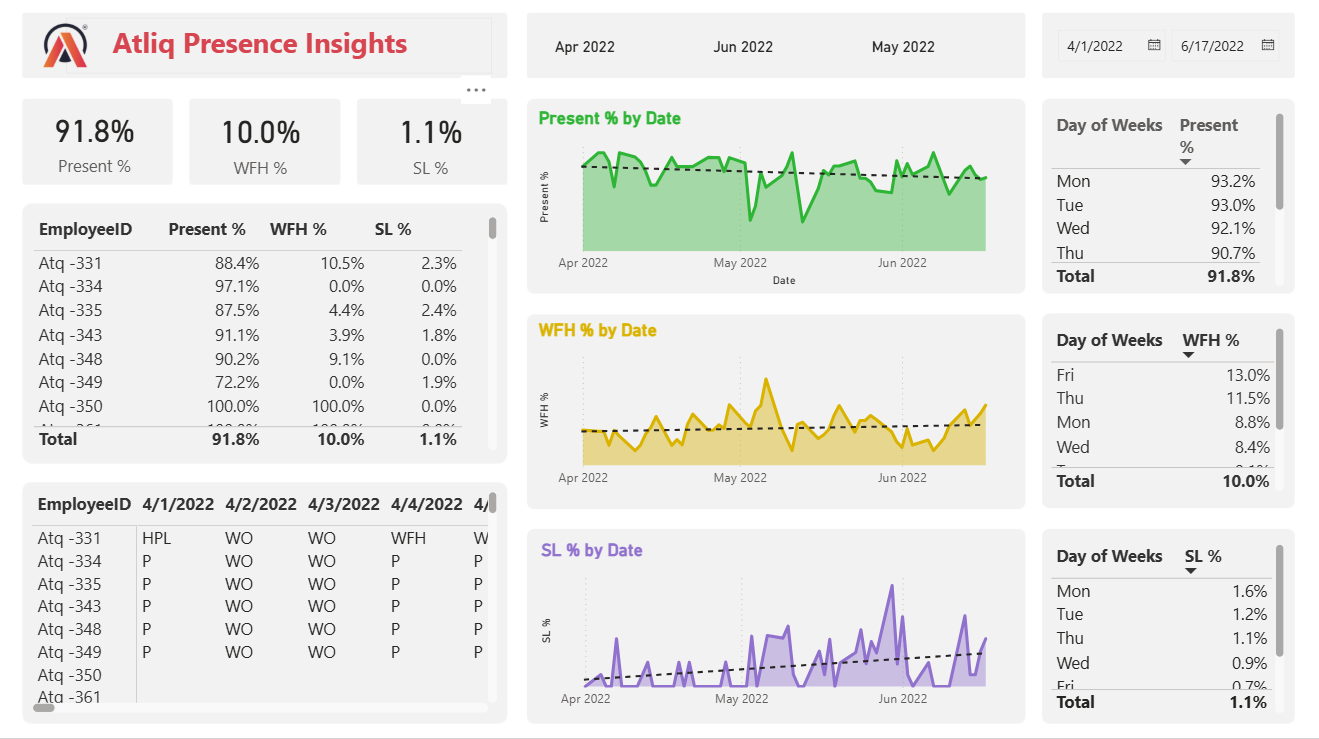

What the dashboard file says about the page in this screenshot:
{"tool":"powerbi","page":{"name":"Page 1","canvas":[1280,720],"ordinal":0},"visuals":[{"type":"card","fields":{"Values":["_measures.Present %"]},"box":[32.9,98.8,124.9,83.7],"z":0},{"type":"advancedSlicerVisual","fields":{"Values":["Final Data.Month"]},"box":[521.2,24.1,463.3,49.5],"z":1000},{"type":"card","fields":{"Values":["_measures.WFH %"]},"box":[190.7,100.2,129,83.7],"z":2000},{"type":"card","fields":{"Values":["_measures.SL %"]},"box":[347.2,100.2,144.1,83.7],"z":3000},{"type":"tableEx","fields":{"Values":["Final Data.Employee Code","_measures.Present %","_measures.WFH %","_measures.SL %"]},"box":[30.2,209.9,458.4,235.3],"z":4000},{"type":"pivotTable","fields":{"Values":["Min(Final Data.Value)"],"Columns":["Final Data.Date"],"Rows":["Final Data.Employee Code"]},"box":[30.2,475.3,458.4,223.2],"z":5000},{"type":"tableEx","fields":{"Values":["Final Data.Day of Weeks","_measures.Present %"]},"box":[1012.7,109.8,236,177],"z":6000},{"type":"tableEx","fields":{"Values":["Final Data.Day of Weeks","_measures.WFH %"]},"box":[1012.7,317,236,167.4],"z":7000},{"type":"tableEx","fields":{"Values":["Final Data.Day of Weeks","_measures.SL %"]},"box":[1012.7,525.6,236,172.9],"z":8000},{"type":"textbox","box":[67.6,22.9,411.4,54.3],"z":9000},{"type":"areaChart","fields":{"Category":["Final Data.Date"],"Y":["_measures.Present %"]},"box":[518.8,109.8,465.7,177.3],"z":10000},{"type":"areaChart","fields":{"Category":["Final Data.Date"],"Y":["_measures.WFH %"]},"box":[518.8,313.7,465.7,171.3],"z":11000},{"type":"areaChart","fields":{"Category":["Final Data.Date"],"Y":["_measures.SL %"]},"box":[521.2,526,463.3,172.5],"z":12000},{"type":"slicer","fields":{"Values":["Final Data.Date"]},"box":[1012.2,24.1,236.5,50.7],"z":13000},{"type":"image","box":[32.6,22.9,70,53.1],"z":14000}]}

Visuals, with their boxes in screenshot pixels (x1, y1, x2, y2), scaled from the page's 1280x720 canvas onto the 1319x739 screenshot:
card - _measures.Present %: (x1=34, y1=101, x2=163, y2=187)
advancedSlicerVisual - Final Data.Month: (x1=537, y1=25, x2=1014, y2=76)
card - _measures.WFH %: (x1=197, y1=103, x2=329, y2=189)
card - _measures.SL %: (x1=358, y1=103, x2=506, y2=189)
tableEx - Final Data.Employee Code x _measures.Present %: (x1=31, y1=215, x2=503, y2=457)
pivotTable - Min(Final Data.Value) x Final Data.Date: (x1=31, y1=488, x2=503, y2=717)
tableEx - Final Data.Day of Weeks x _measures.Present %: (x1=1044, y1=113, x2=1287, y2=294)
tableEx - Final Data.Day of Weeks x _measures.WFH %: (x1=1044, y1=325, x2=1287, y2=497)
tableEx - Final Data.Day of Weeks x _measures.SL %: (x1=1044, y1=539, x2=1287, y2=717)
textbox: (x1=70, y1=24, x2=494, y2=79)
areaChart - Final Data.Date x _measures.Present %: (x1=535, y1=113, x2=1014, y2=295)
areaChart - Final Data.Date x _measures.WFH %: (x1=535, y1=322, x2=1014, y2=498)
areaChart - Final Data.Date x _measures.SL %: (x1=537, y1=540, x2=1014, y2=717)
slicer - Final Data.Date: (x1=1043, y1=25, x2=1287, y2=77)
image: (x1=34, y1=24, x2=106, y2=78)
